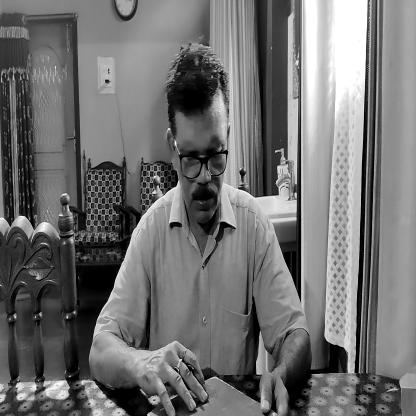Normal: (164, 48, 229, 226)
